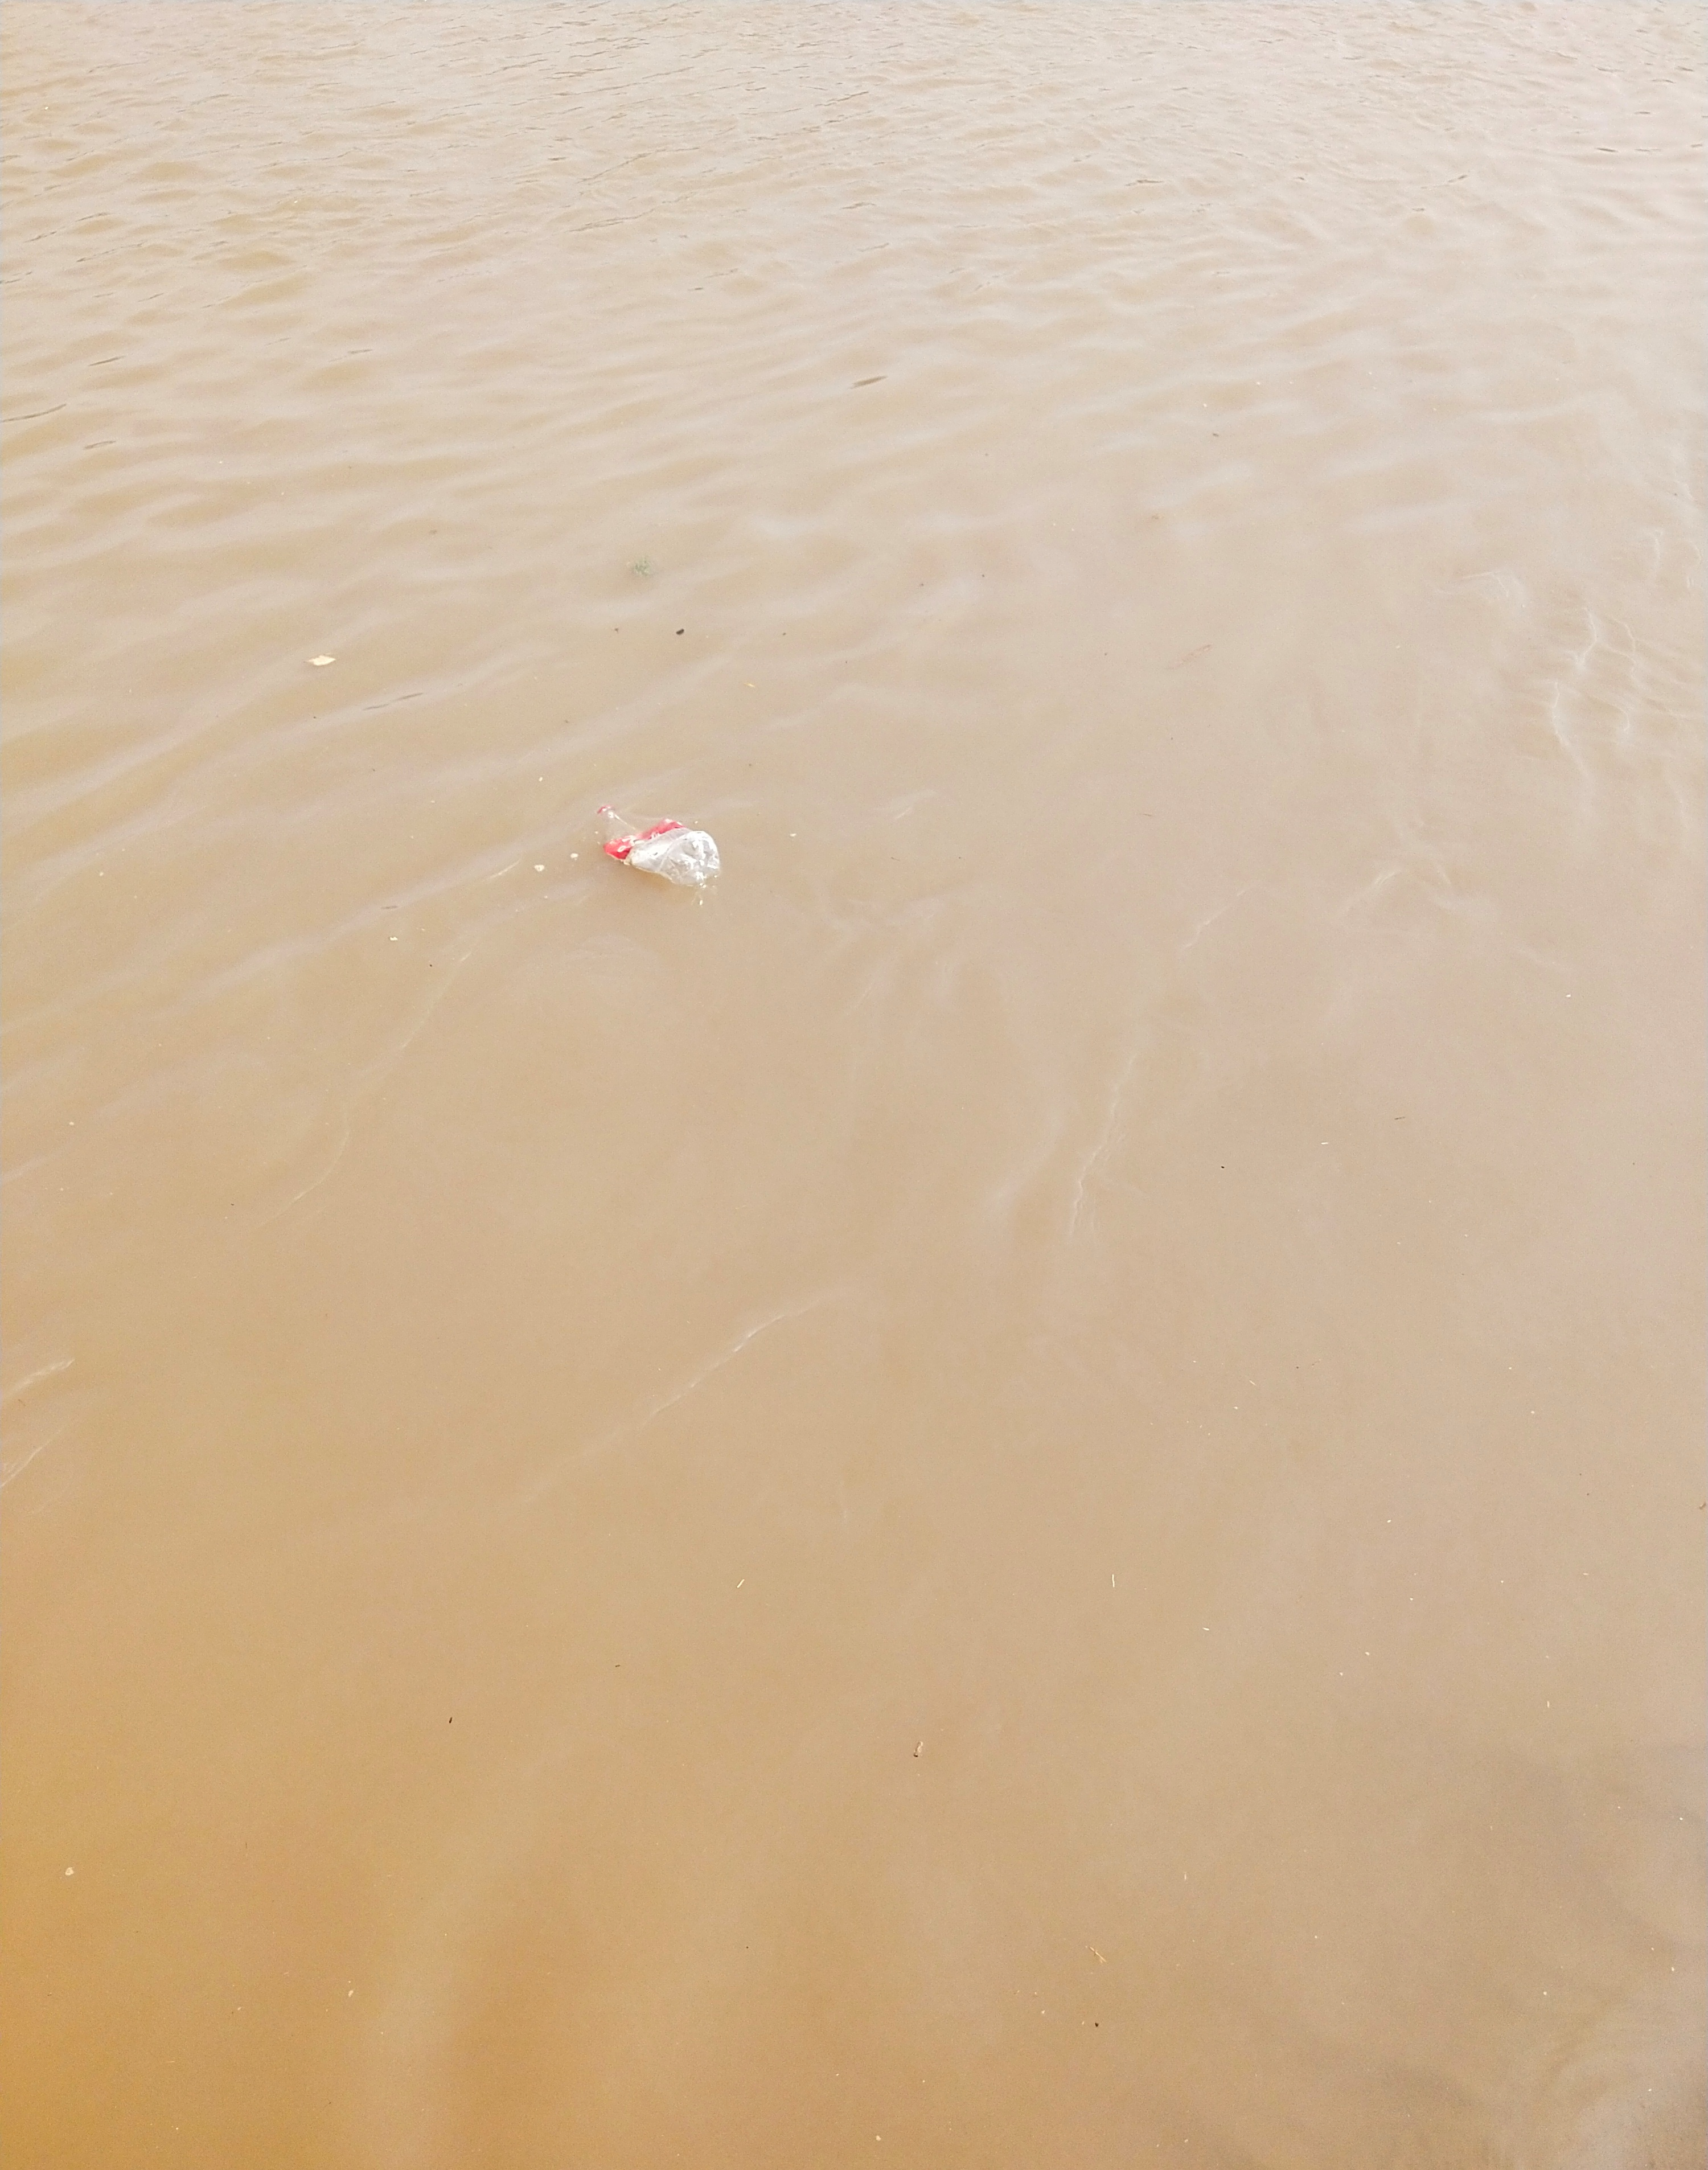Plastic Bottle: (599, 805, 718, 886)
